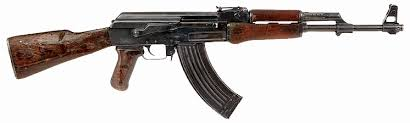gun: (4, 3, 404, 118)
